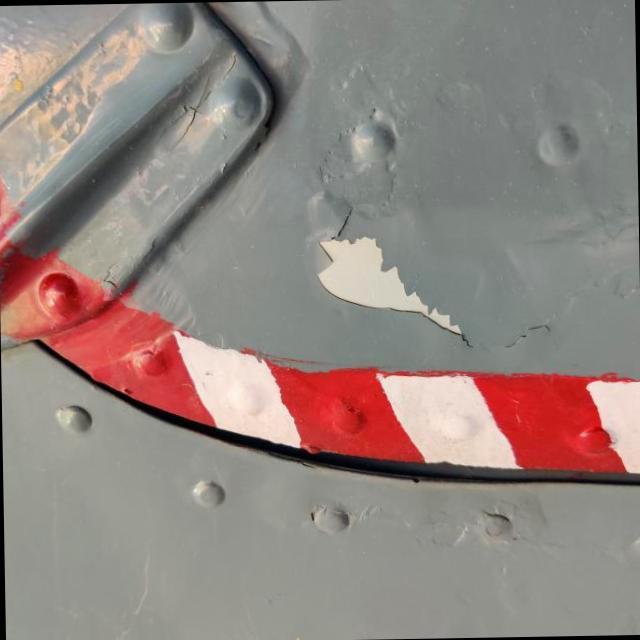paint-off: (295, 192, 492, 364)
